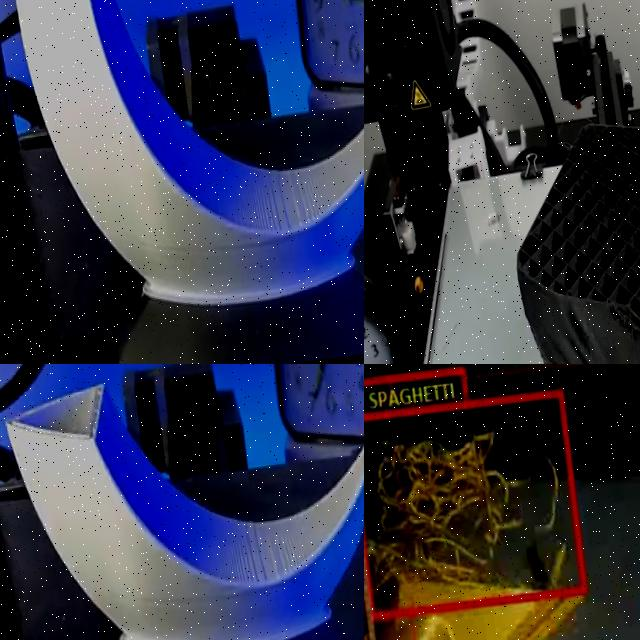spaghetti: (364, 407, 573, 607)
